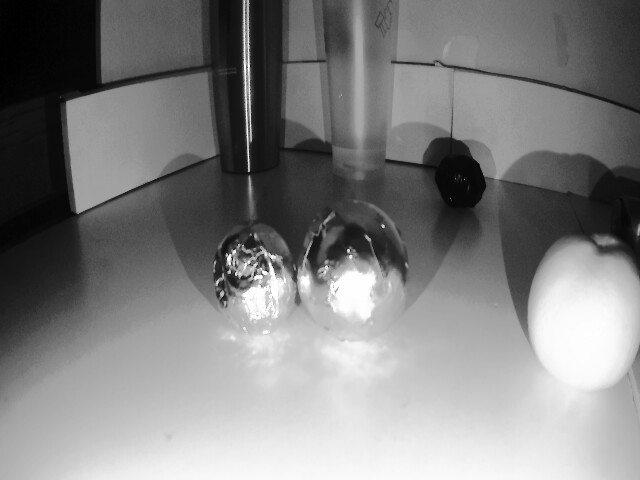black: (435, 156, 488, 210)
silver: (297, 204, 410, 339), (212, 221, 294, 332)
